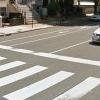Crosswalk: (1, 50, 100, 100)
